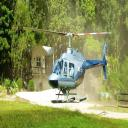helicopter: (48, 32, 111, 108)
